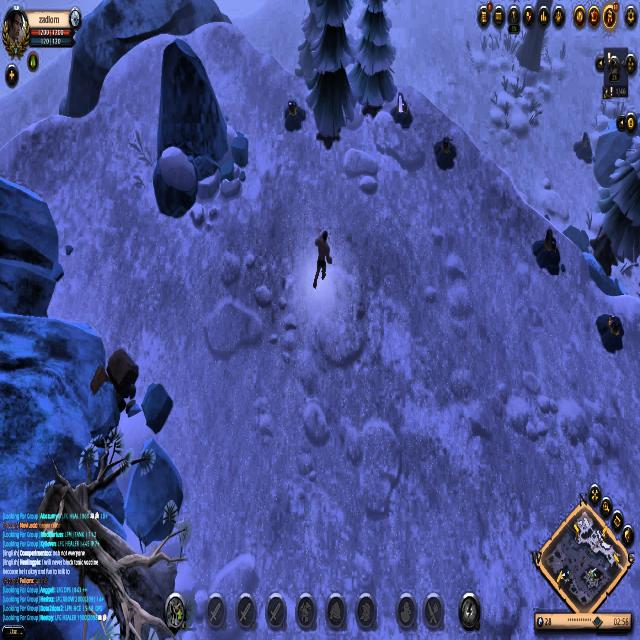copper_ore: (590, 311, 632, 353), (530, 228, 568, 274), (282, 94, 308, 140), (432, 132, 458, 175), (391, 89, 414, 132)
limestone: (91, 347, 141, 411)
